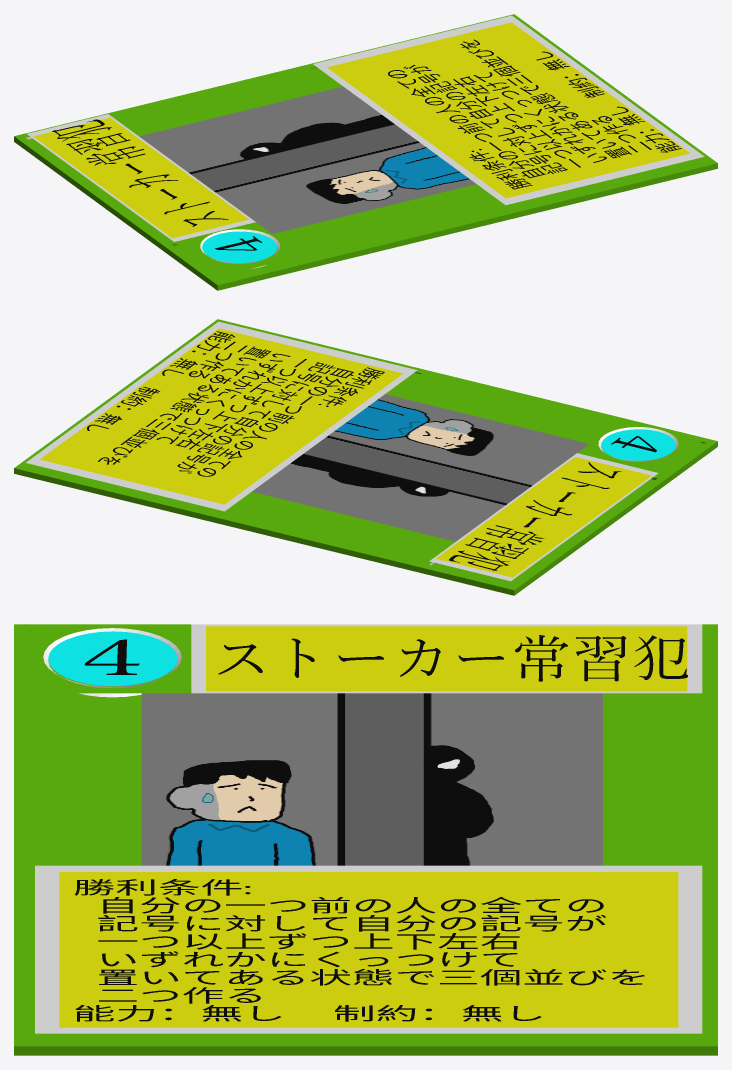
File: ストーカー常習犯緑.fbx
The picture shows the model from 3 angles, top to bottom: view 1: azimuth 30°, elevation 25°; view 2: azimuth 150°, elevation 25°; view 3: azimuth 270°, elevation 25°; orthographic projection. The views are drawn at different scales.
Parts seen in each view (by area): view 1: 説明欄, 平面.001, カード本体.001, 名前欄, 説明文, 円, 平面, 名前; view 2: 説明欄, 平面.001, カード本体.001, 名前欄, 説明文, 円, 平面, 名前; view 3: 説明欄, 平面.001, カード本体.001, 名前欄, 説明文, 平面, 円, 名前, コスト蘭.
Boxes of the visible parts, left/top/right/bottom form: 説明欄: left=313, top=15, right=704, bottom=205; 平面.001: left=139, top=86, right=476, bottom=233; カード本体.001: left=14, top=14, right=717, bottom=290; 名前欄: left=27, top=114, right=255, bottom=241; 説明文: left=388, top=39, right=681, bottom=189; 円: left=202, top=231, right=276, bottom=262; 平面: left=174, top=222, right=302, bottom=275; 名前: left=52, top=119, right=228, bottom=226; 説明欄: left=26, top=321, right=417, bottom=511; 平面.001: left=252, top=394, right=588, bottom=541; カード本体.001: left=14, top=319, right=717, bottom=595; 名前欄: left=429, top=453, right=658, bottom=581; 説明文: left=87, top=331, right=384, bottom=476; 円: left=601, top=429, right=675, bottom=460; 平面: left=577, top=419, right=704, bottom=472; 名前: left=449, top=462, right=621, bottom=570; 説明欄: left=35, top=865, right=702, bottom=1033; 平面.001: left=141, top=693, right=602, bottom=865; カード本体.001: left=14, top=624, right=717, bottom=1055; 名前欄: left=191, top=624, right=702, bottom=693; 説明文: left=75, top=879, right=644, bottom=1021; 平面: left=30, top=624, right=191, bottom=693; 円: left=48, top=631, right=177, bottom=686; 名前: left=218, top=635, right=687, bottom=681; コスト蘭: left=43, top=628, right=181, bottom=697.
Bounding box in the file's own units: 281 × 6.07 × 198.
